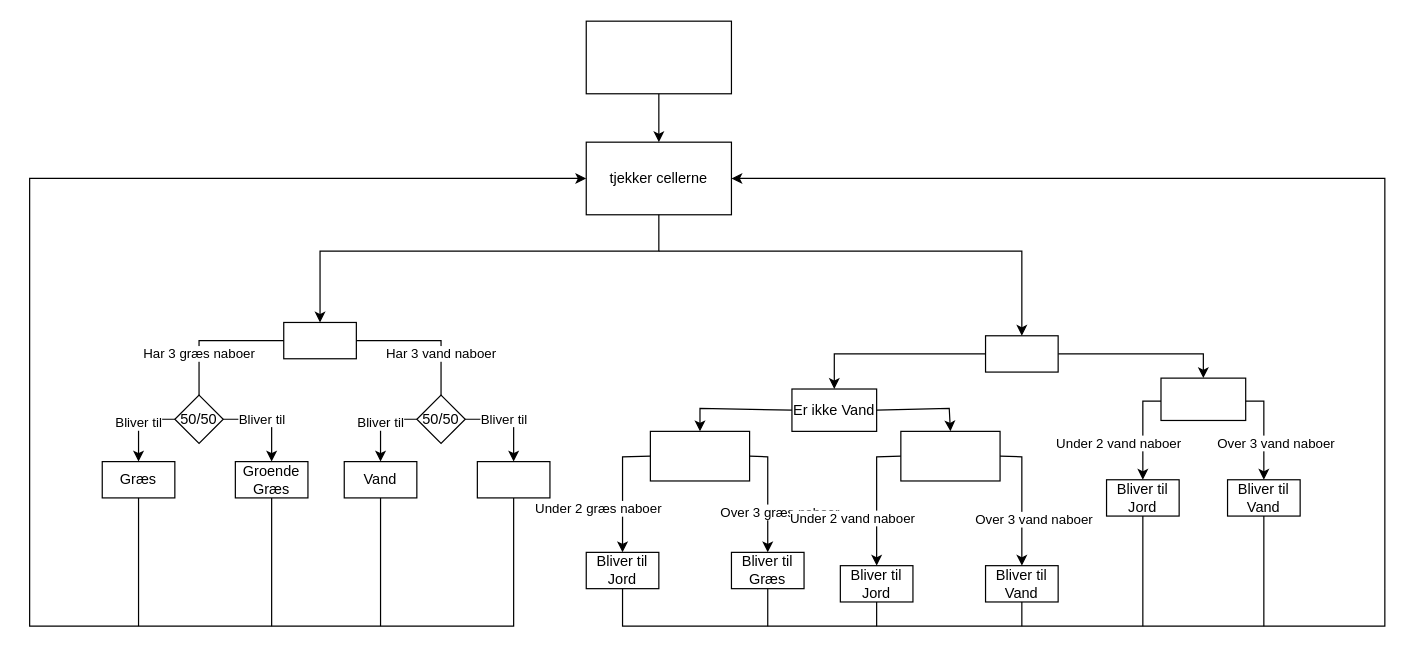
Some shapes in this 1416 by 657 pixel diagram are drawn without their labels. The shapes that lost their labels are listed below. From the top down, each one's centre as x and y in pixels, then its label:
At (658,57): "Programmet starter".
At (319,340): "Er Jord".
At (1021,353): "Er ikke Jord".
At (1203,398): "Er Vand".
At (699,455): "Har vand naboer".
At (950,455): "Har ikke vand naboer".
At (513,479): "spredende Vand".
